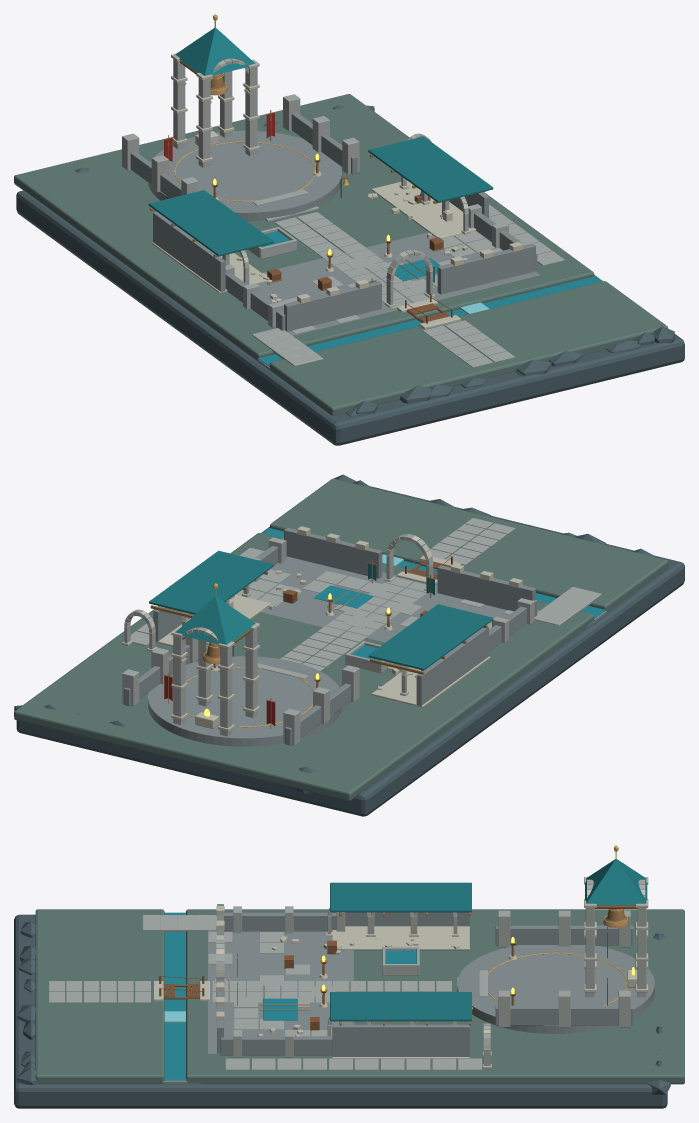
Rendered from SM_BrokenBellAbbey_Layout.fbx.
The picture shows the model from 3 angles, top to bottom: view 1: azimuth 30°, elevation 25°; view 2: azimuth 150°, elevation 25°; view 3: azimuth 270°, elevation 25°; orthographic projection.
Visible parts, largest first — view 1: LV_AbbeyBank, LV_SouthBank, LV_DioramaRock, LV_ArenaBase, LV_OuterCourt, LV_ArcadeRoof.001, LV_ArcadeRoof, LV_GateWall.001, LV_GateWall, LV_CloisterRearWall, LV_ArcadeFloor.001, LV_CanalWater (+10 smaller); view 2: LV_AbbeyBank, LV_SouthBank, LV_DioramaRock, LV_ArenaBase, LV_OuterCourt, LV_ArcadeRoof, LV_ArcadeRoof.001, LV_GateWall.001, LV_GateWall, LV_CloisterRearWall, LV_BelfryRoof, LV_ArcadeFloor (+12 smaller); view 3: LV_AbbeyBank, LV_SouthBank, LV_DioramaRock, LV_ArenaBase, LV_OuterCourt, LV_CloisterRearWall.001, LV_ArcadeRoof, LV_ArcadeRoof.001, LV_CanalWater, LV_ArcadeFloor, LV_ArenaSideWall.001, LV_BelfryRoof (+13 smaller).
Part boxes in pixels (bbox=[...]): LV_AbbeyBank: bbox=[14, 94, 594, 359]; LV_SouthBank: bbox=[269, 281, 668, 415]; LV_DioramaRock: bbox=[16, 190, 684, 445]; LV_ArenaBase: bbox=[148, 130, 342, 221]; LV_OuterCourt: bbox=[258, 231, 540, 335]; LV_ArcadeRoof.001: bbox=[368, 136, 493, 202]; LV_ArcadeRoof: bbox=[148, 190, 273, 256]; LV_GateWall.001: bbox=[437, 243, 535, 294]; LV_GateWall: bbox=[284, 281, 381, 331]; LV_CloisterRearWall: bbox=[153, 212, 225, 291]; LV_ArcadeFloor.001: bbox=[371, 180, 476, 238]; LV_CanalWater: bbox=[251, 276, 601, 366]; LV_AbbeyBank: bbox=[14, 533, 594, 801]; LV_SouthBank: bbox=[270, 478, 668, 612]; LV_DioramaRock: bbox=[16, 486, 684, 816]; LV_ArenaBase: bbox=[148, 656, 341, 746]; LV_OuterCourt: bbox=[235, 556, 539, 642]; LV_ArcadeRoof: bbox=[368, 604, 493, 670]; LV_ArcadeRoof.001: bbox=[149, 550, 273, 614]; LV_GateWall.001: bbox=[284, 527, 382, 578]; LV_GateWall: bbox=[437, 565, 535, 611]; LV_CloisterRearWall: bbox=[416, 626, 488, 705]; LV_BelfryRoof: bbox=[175, 596, 255, 644]; LV_ArcadeFloor: bbox=[371, 656, 490, 707]; LV_AbbeyBank: bbox=[186, 909, 684, 1084]; LV_SouthBank: bbox=[35, 909, 164, 1083]; LV_DioramaRock: bbox=[14, 914, 667, 1108]; LV_ArenaBase: bbox=[457, 945, 654, 1033]; LV_OuterCourt: bbox=[207, 930, 353, 1053]; LV_CloisterRearWall.001: bbox=[332, 1024, 469, 1056]; LV_ArcadeRoof: bbox=[330, 882, 471, 912]; LV_ArcadeRoof.001: bbox=[330, 992, 471, 1021]; LV_CanalWater: bbox=[162, 912, 187, 1080]; LV_ArcadeFloor: bbox=[332, 926, 469, 950]; LV_ArenaSideWall.001: bbox=[495, 1005, 633, 1025]; LV_BelfryRoof: bbox=[585, 859, 647, 905].
Bounding box in the file's own units: 48.61 × 78 × 22.85.
